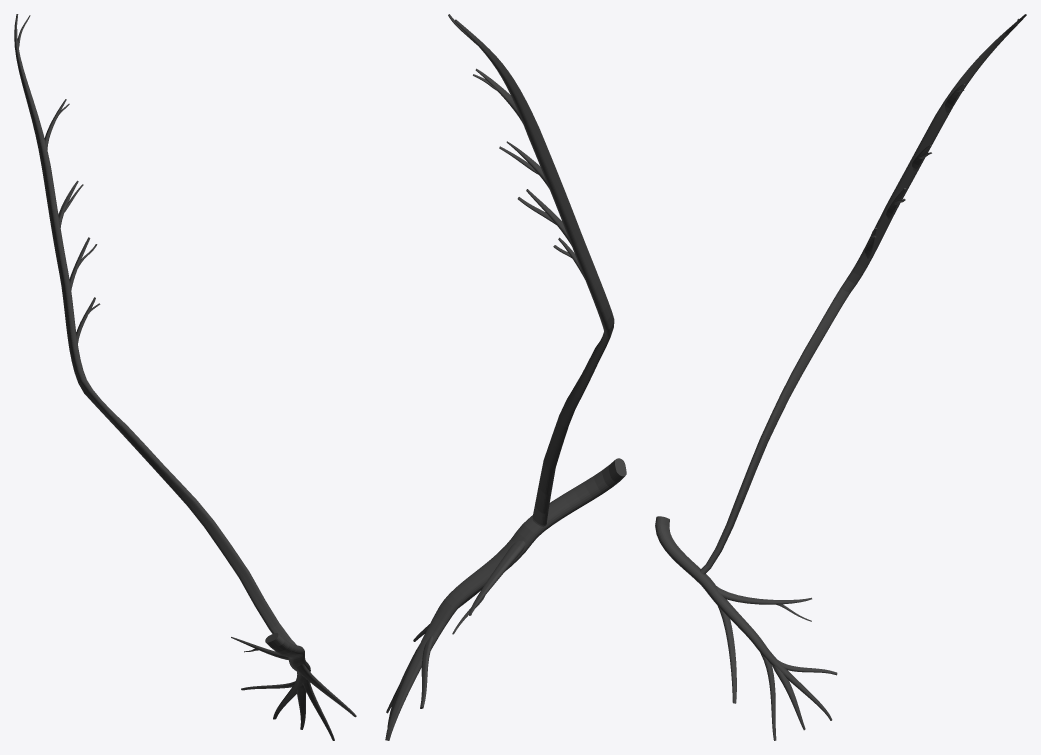
The model's file is N_10_vagus_pharyngeal.glb.
3 renders of one model, left to right at view 1: azimuth 30°, elevation 25°; view 2: azimuth 150°, elevation 25°; view 3: azimuth 270°, elevation 25°, orthographic. The views are drawn at different scales.
Parts seen in each view (by area): view 1: N_10_vagus_pharyngeal; view 2: N_10_vagus_pharyngeal; view 3: N_10_vagus_pharyngeal.
Boxes of the visible parts, x1,y1,x2,y2 form: N_10_vagus_pharyngeal: (14, 14, 356, 740); N_10_vagus_pharyngeal: (385, 14, 626, 740); N_10_vagus_pharyngeal: (655, 14, 1026, 740).
Size of the model in its own units: 0.007 by 0.0209 by 0.011.
1 material, 1 textured.
